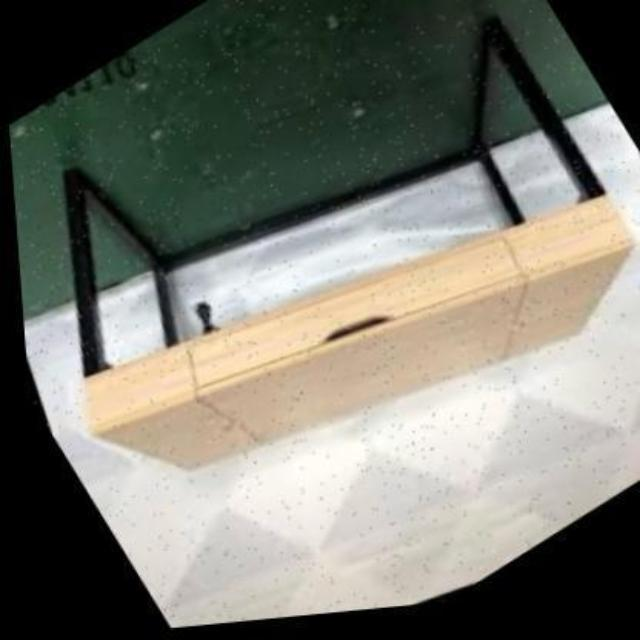table: (84, 47, 629, 465)
